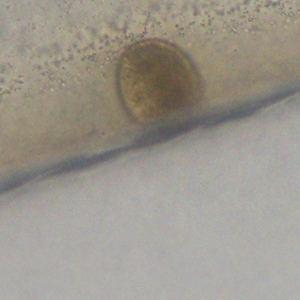Fasciola_hepatica_egg: (114, 37, 202, 129)
